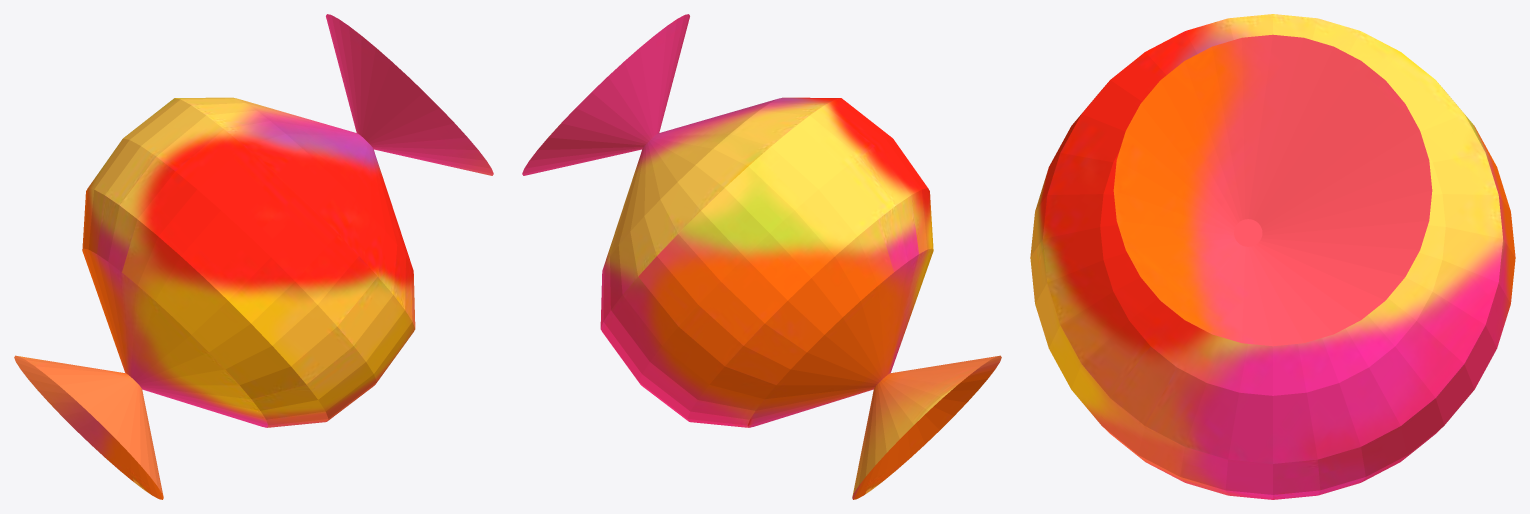
The model's file is Treat.glb.
The picture shows the model from 3 angles, left to right: view 1: azimuth 30°, elevation 25°; view 2: azimuth 150°, elevation 25°; view 3: azimuth 270°, elevation 25°; orthographic projection. The views are drawn at different scales.
Parts seen in each view (by area): view 1: Treat; view 2: Treat; view 3: Treat.
Boxes of the visible parts, x1=… form: Treat: x1=14, y1=14, x2=493, y2=499; Treat: x1=522, y1=14, x2=1001, y2=499; Treat: x1=1030, y1=14, x2=1515, y2=499.
Size of the model in its own units: 0.4254 by 0.3854 by 0.2992.
Materials: 1 (1 with a texture image).
